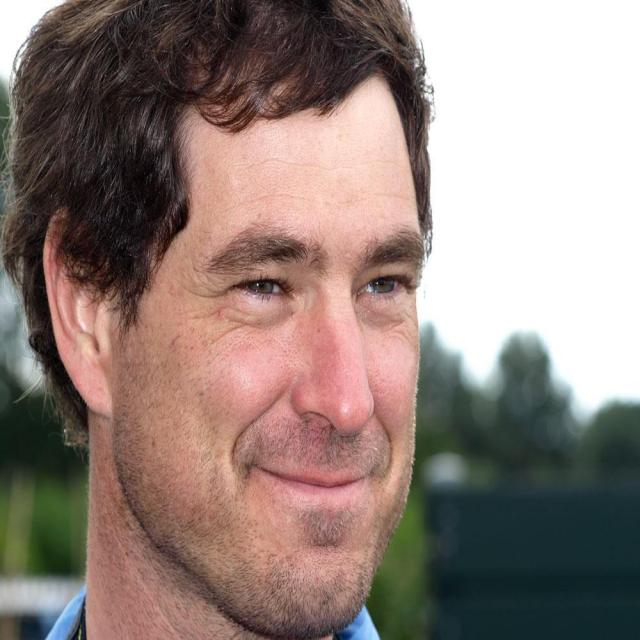Eyebags: (224, 290, 300, 334), (353, 288, 409, 334), (233, 300, 288, 324), (366, 300, 406, 325)
